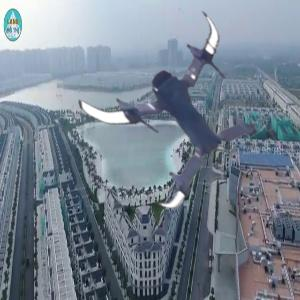drone: (85, 12, 266, 193)
